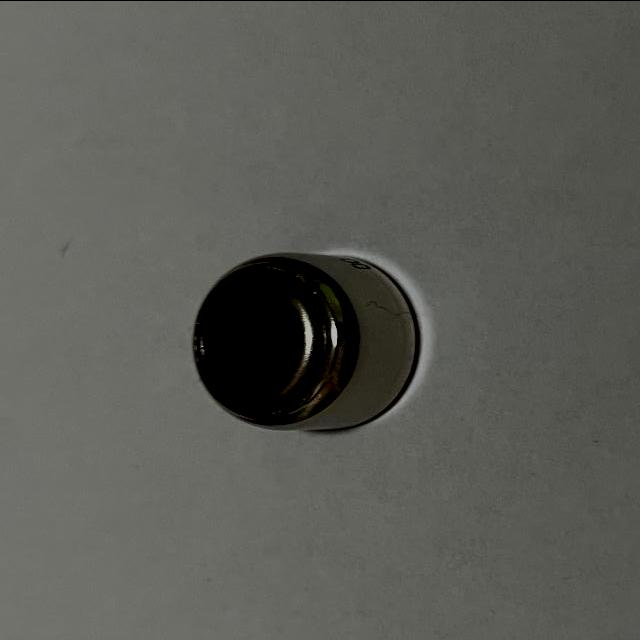COIN: (190, 250, 424, 432)
